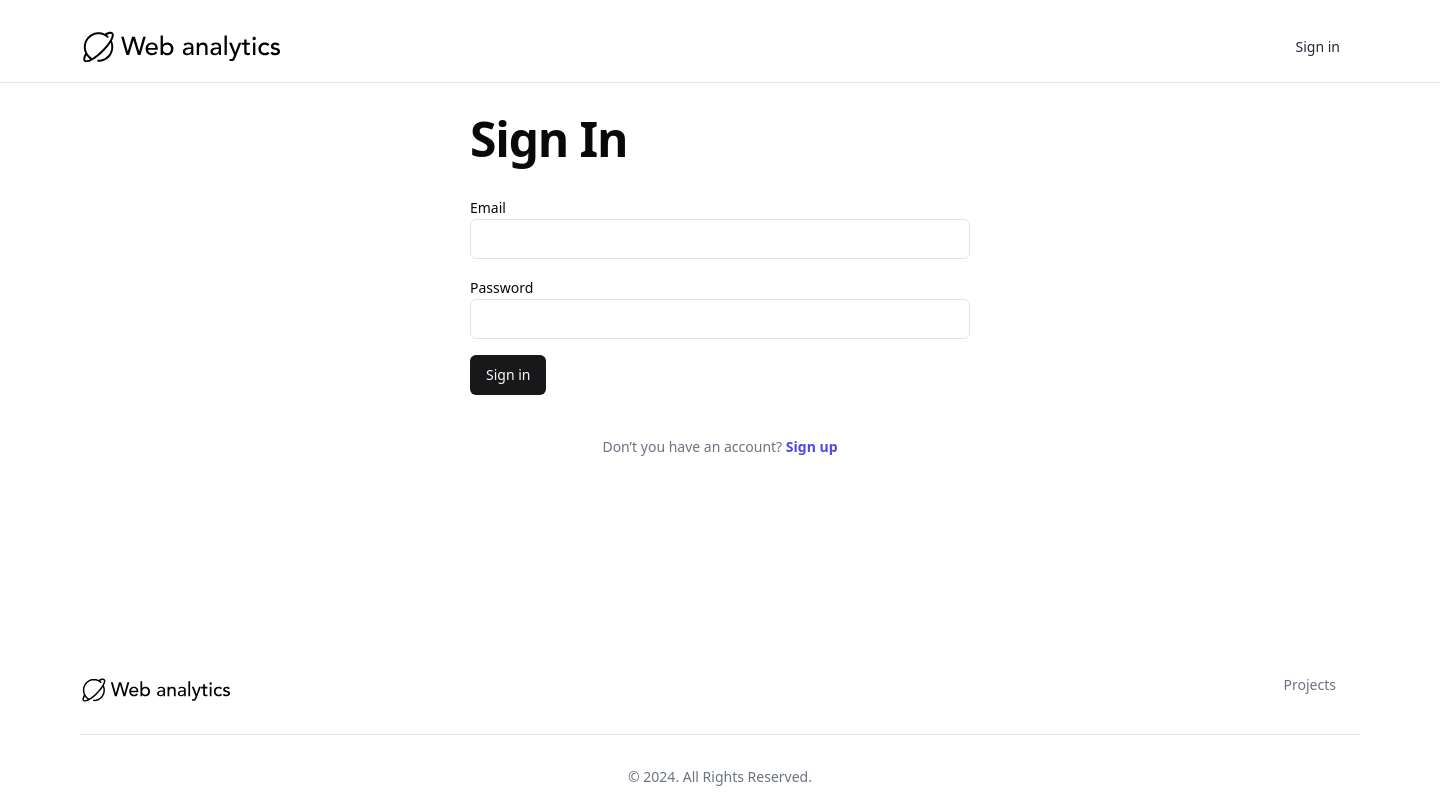
Scenario: Login/Register › Unable to authorise an unregistered user
The image size is (1440, 812).
Expected: the form with test id "login-form" is shown, [470,195,970,395]
Expected: the heading "Sign In" is shown, [470,106,627,171]
Type "random.user@gmail.com" into the field named "email" at {"x": 720, "y": 239}, box [470,219,970,259]
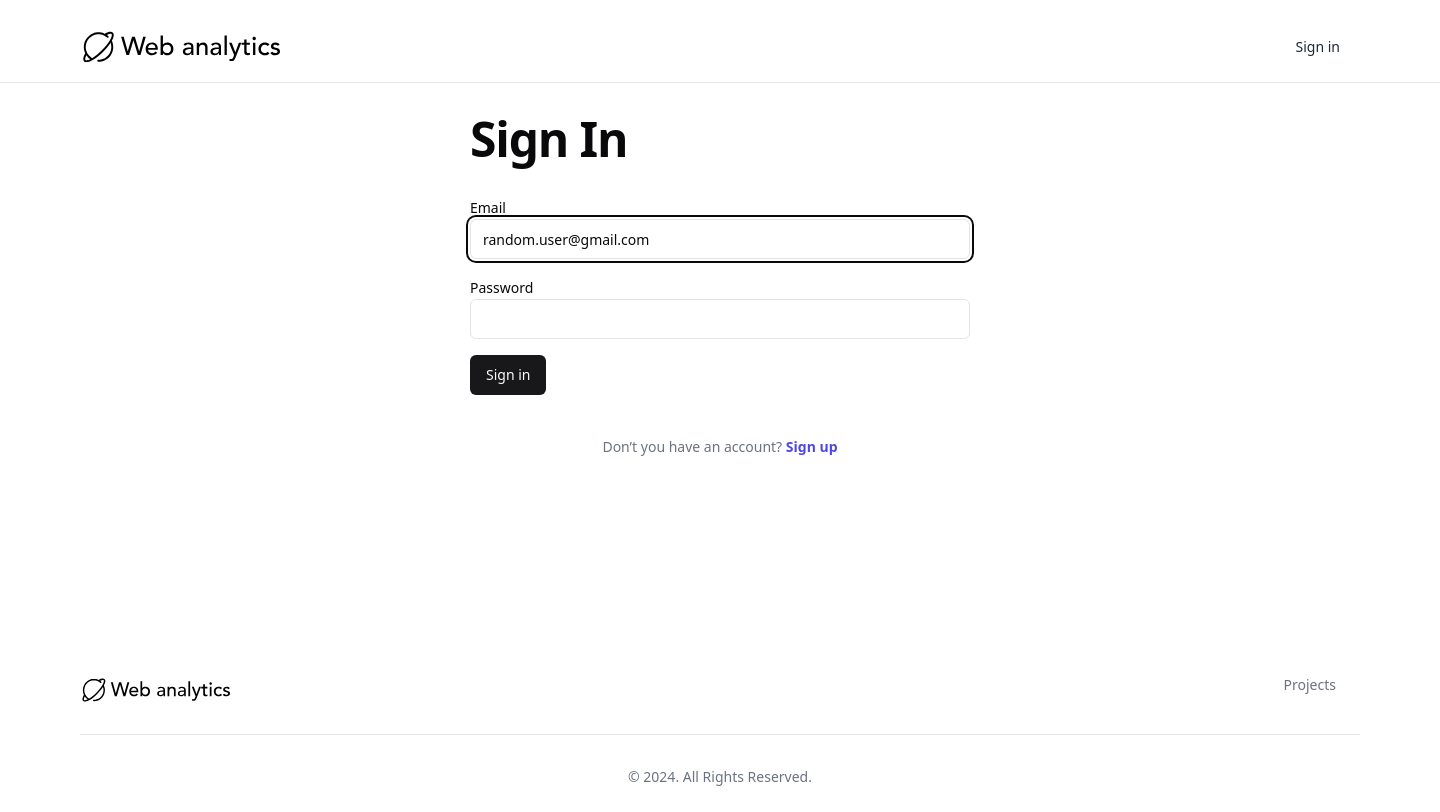
Type "123456" into the password field named "password" at {"x": 720, "y": 319}, box [470,299,970,339]
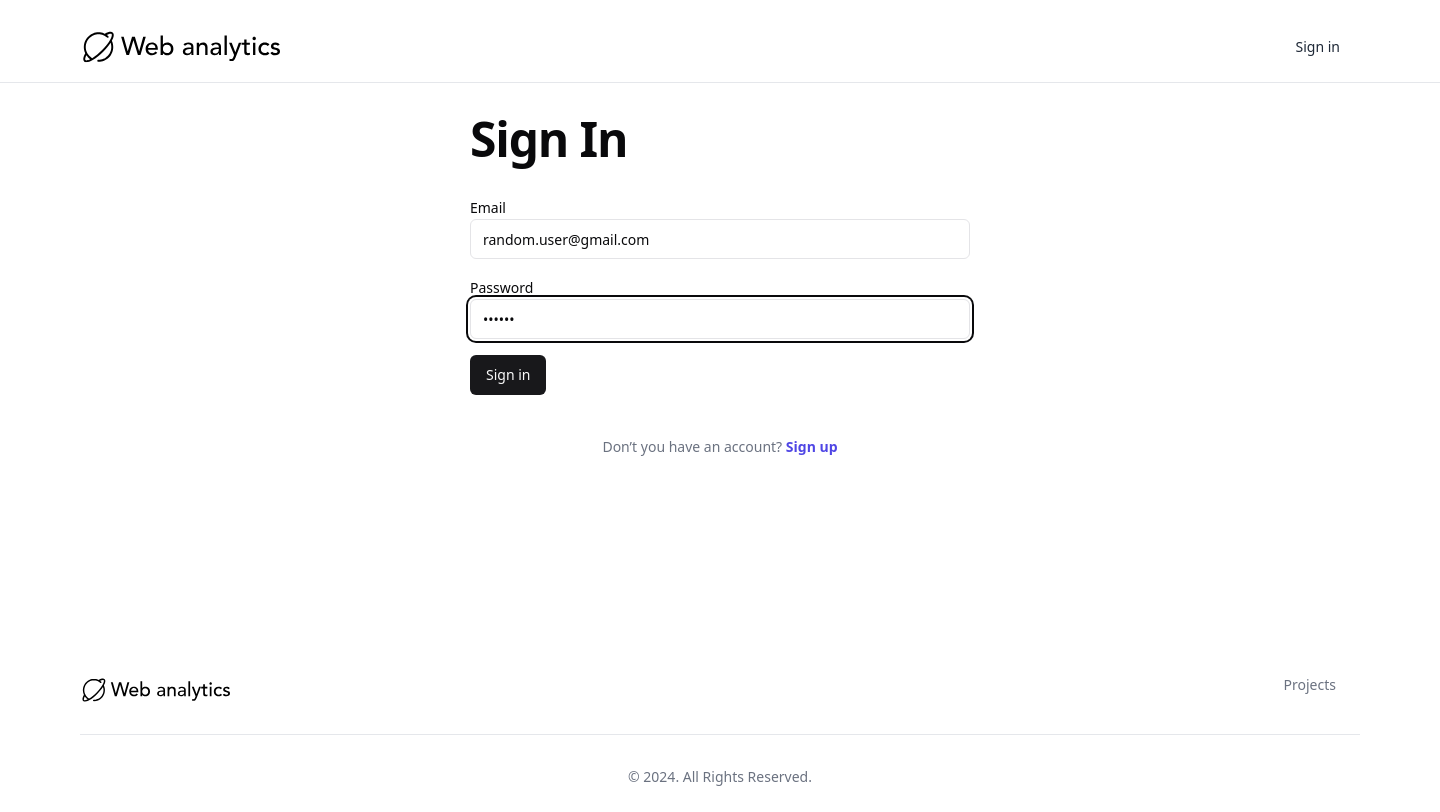
Click the submit button at {"x": 509, "y": 375}, box [470,355,547,395]
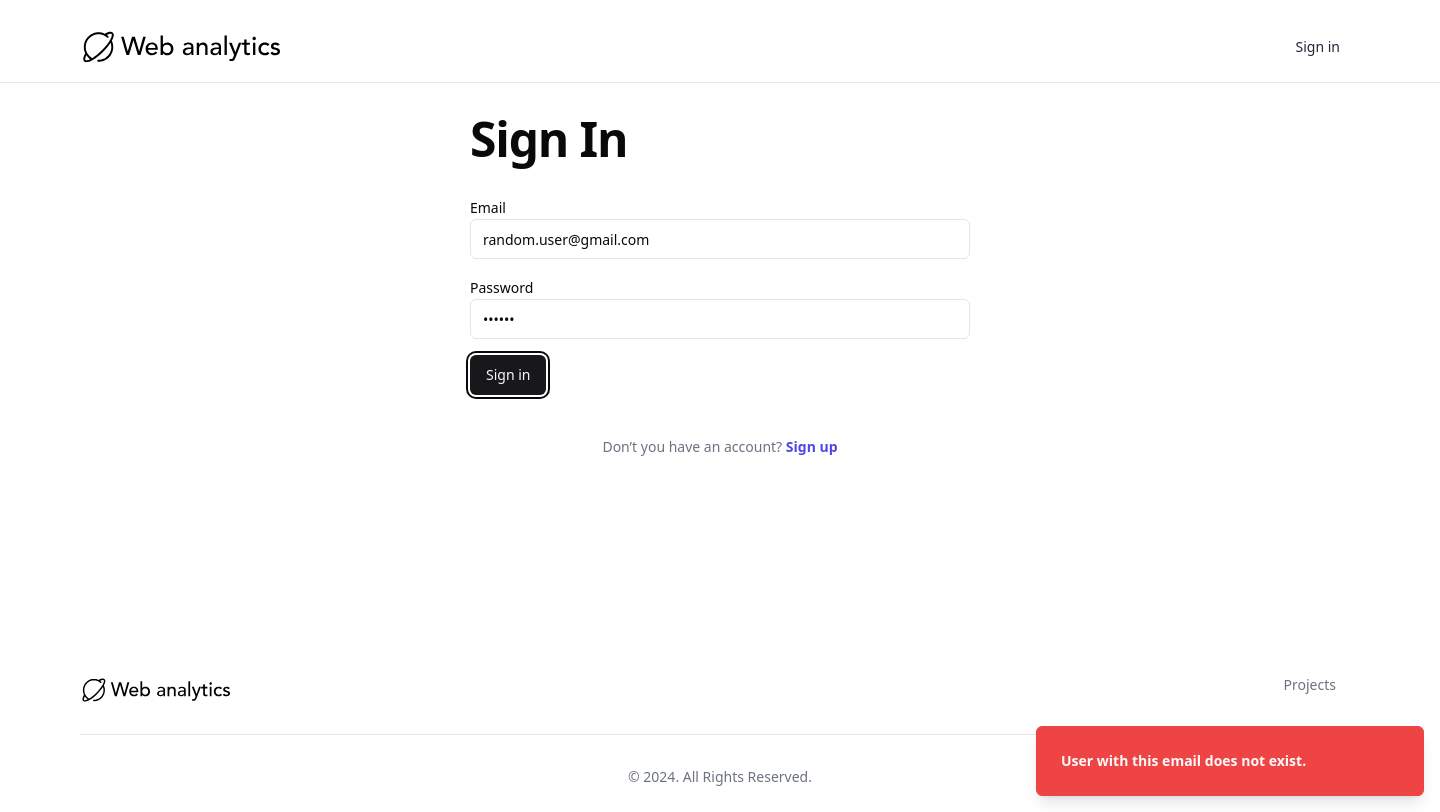
Now the text "User with this email does not exist." is shown, box [1061,751,1306,771]
